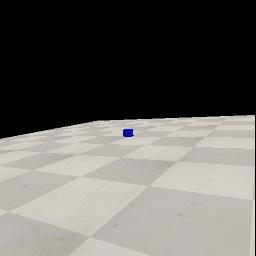box: (123, 129, 134, 137)
